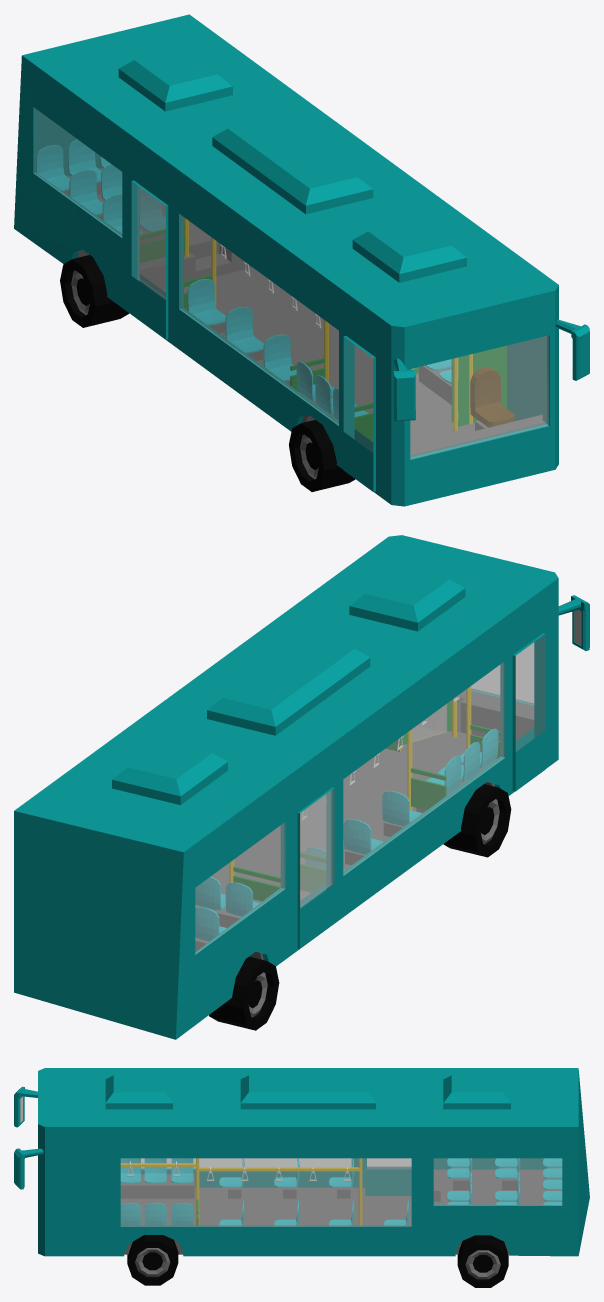
The model's file is chen_bus.fbx.
The picture shows the model from 3 angles, top to bottom: view 1: azimuth 30°, elevation 25°; view 2: azimuth 150°, elevation 25°; view 3: azimuth 270°, elevation 25°; orthographic projection. The views are drawn at different scales.
Visible parts, largest first — view 1: 车外壳, 车窗, 车底座, 座椅, 车门, 车轮, 扶手架; view 2: 车外壳, 车窗, 车底座, 车门, 座椅, 车轮, 扶手架; view 3: 车外壳, 车窗, 车底座, 座椅, 车轮, 扶手架, 车门, 扶手.
Part boxes in pixels (box(x1,y1,x2,y2)): 车外壳: box(14, 14, 589, 506); 车窗: box(33, 107, 548, 459); 车底座: box(63, 168, 545, 456); 座椅: box(36, 139, 514, 427); 车门: box(131, 180, 375, 491); 车轮: box(60, 255, 355, 491); 扶手架: box(140, 217, 506, 441); 车外壳: box(14, 535, 589, 1039); 车窗: box(195, 643, 533, 954); 车底座: box(195, 690, 534, 959); 车门: box(297, 633, 545, 948); 座椅: box(195, 728, 498, 941); 车轮: box(209, 784, 511, 1030); 扶手架: box(229, 686, 500, 901); 车外壳: box(14, 1068, 589, 1256); 车窗: box(120, 1158, 562, 1226); 车底座: box(120, 1167, 562, 1254); 座椅: box(120, 1158, 562, 1225); 车轮: box(127, 1235, 508, 1287); 扶手架: box(120, 1158, 362, 1225); 车门: box(367, 1166, 411, 1195); 扶手: box(127, 1161, 350, 1181).
Bounding box in the file's own units: 1484 × 1720 × 5250.
